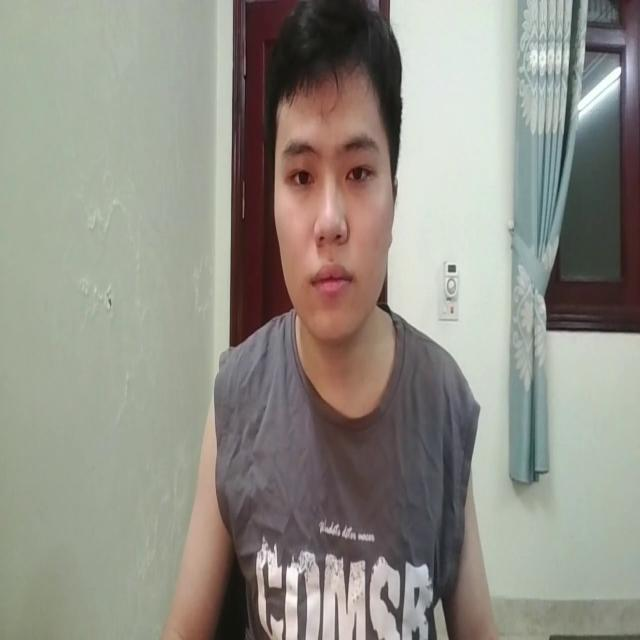student: (161, 0, 497, 640)
